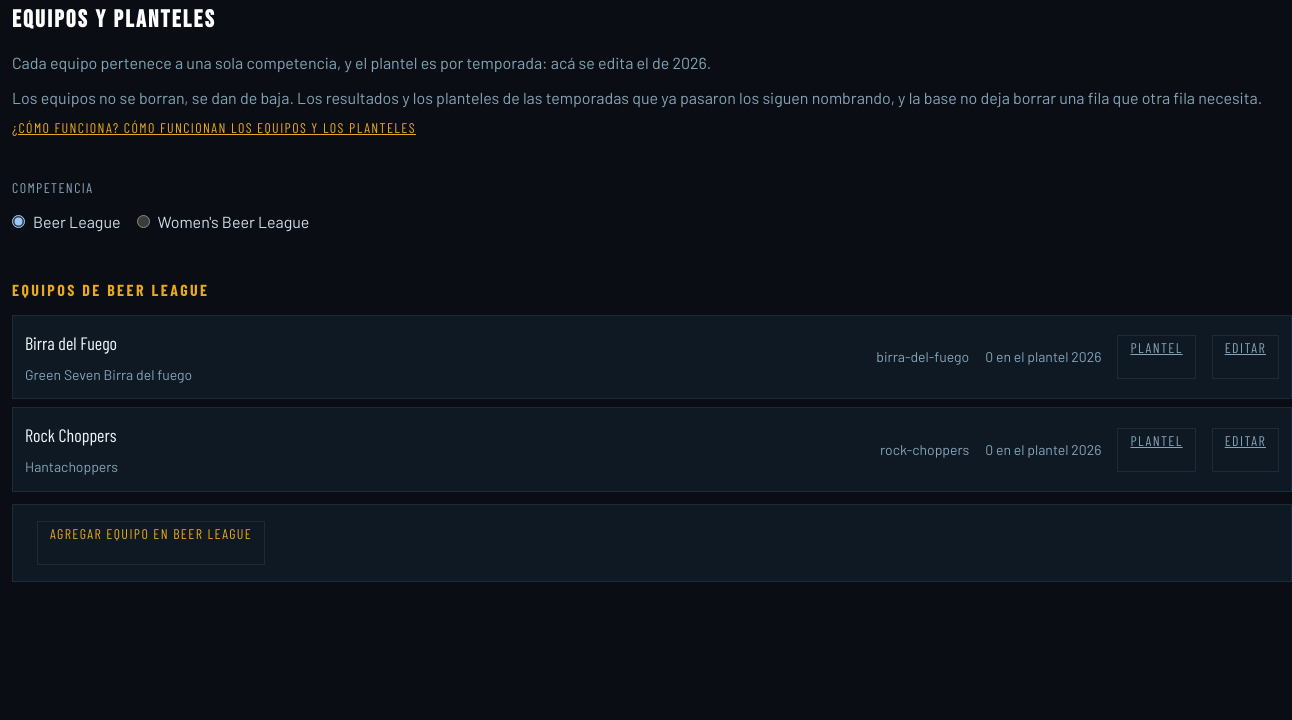
Test case: TeamsAdminScreen › lists one competition at a time, and switches to the other
Expected: the text "Rock Choppers" is shown, x1=25 y1=424 x2=116 y2=446
Expected: the text "Frozen Queens" is not shown
Click the radio button labelled "Women's Beer League" at (143, 222), box x1=136 y1=215 x2=150 y2=228
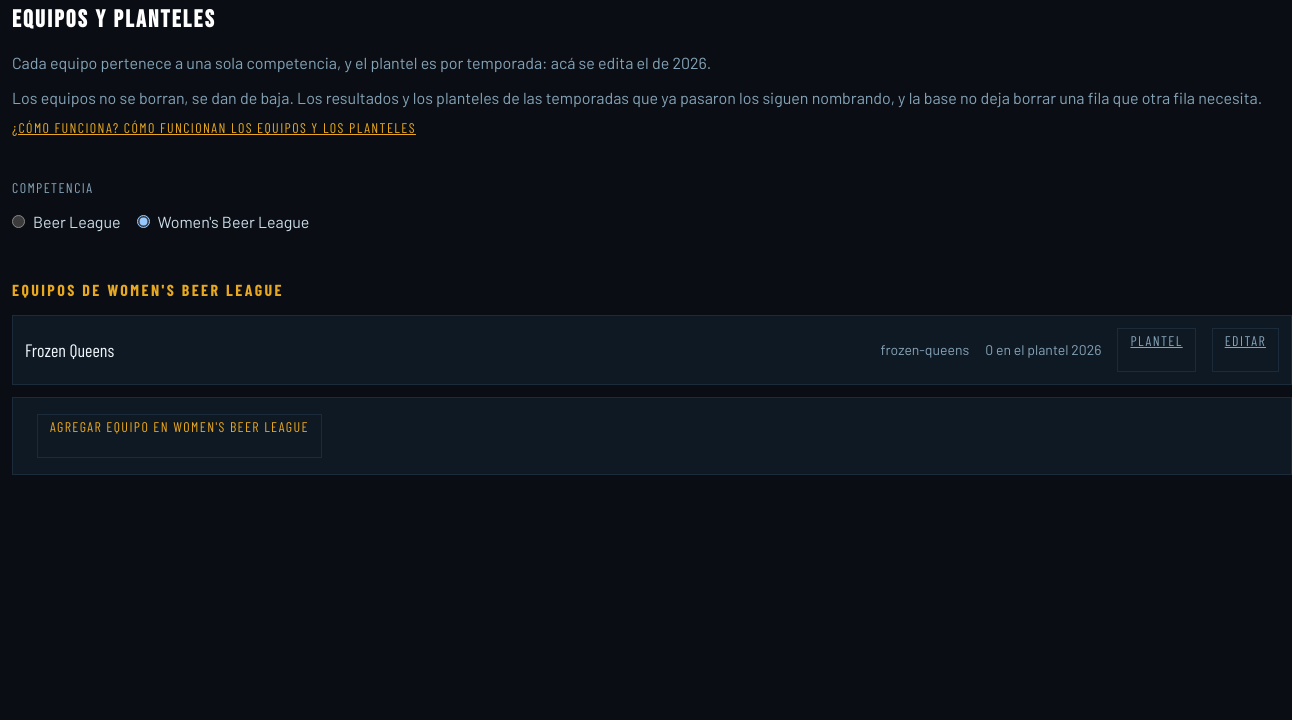
Now the text "Frozen Queens" is shown, box x1=25 y1=339 x2=114 y2=361
Now the text "Rock Choppers" is gone
